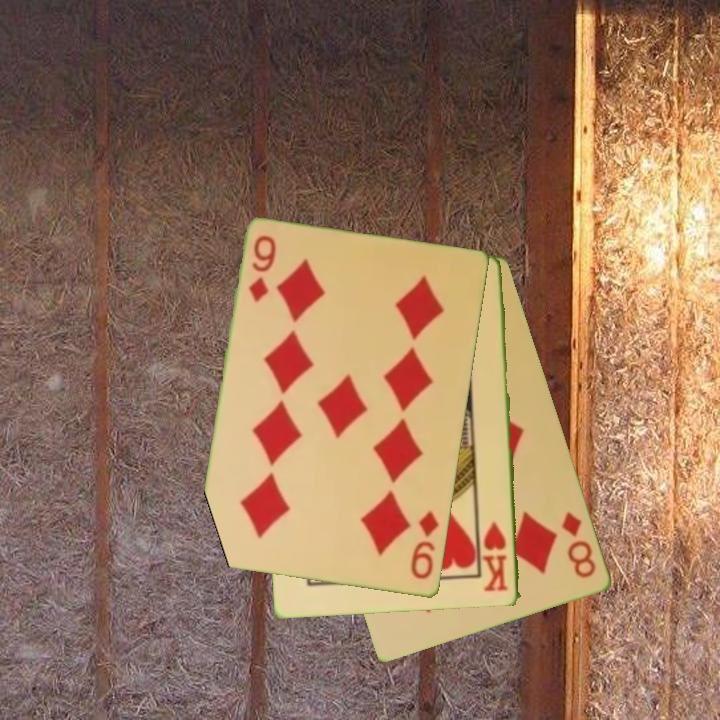8d: (558, 508, 600, 582)
9d: (408, 508, 442, 583), (246, 232, 280, 306)
Kh: (480, 518, 511, 595)
